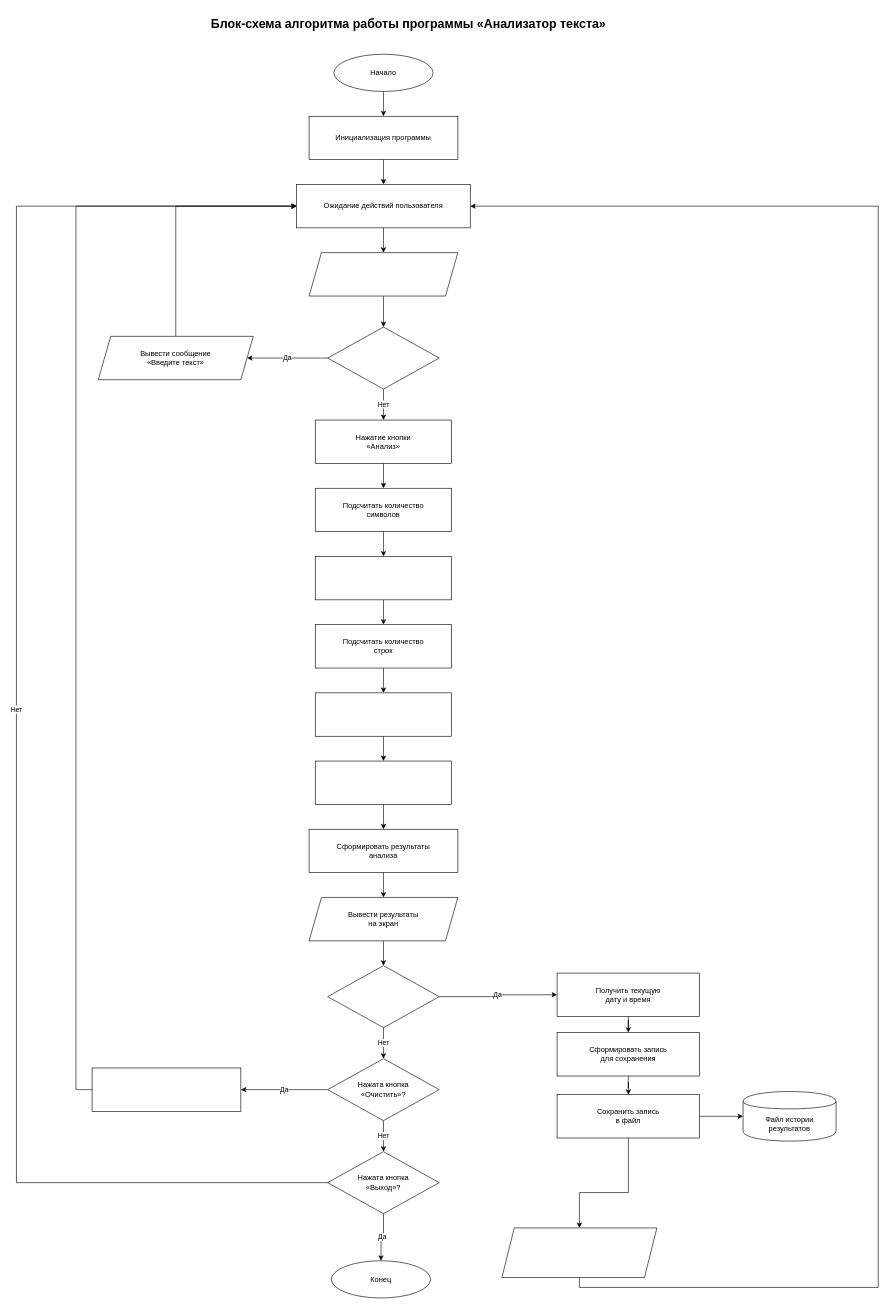
This 894x1309 diagram has some shape labels left out. Here are the shapes that lost their labels. From the top down, the box of each, then its label:
(308, 252, 458, 296): Ввод текста
(327, 326, 439, 389): Текст пустой?
(315, 556, 452, 600): Подсчитать количество слов
(315, 692, 452, 736): Подсчитать количество пробелов
(315, 760, 452, 804): Вычислить длину текста
(327, 965, 439, 1028): Нажата кнопка «Сохранить»?
(91, 1067, 241, 1111): Очистить поле ввода и результаты
(501, 1227, 657, 1278): Вывести сообщение об успешном сохранении
